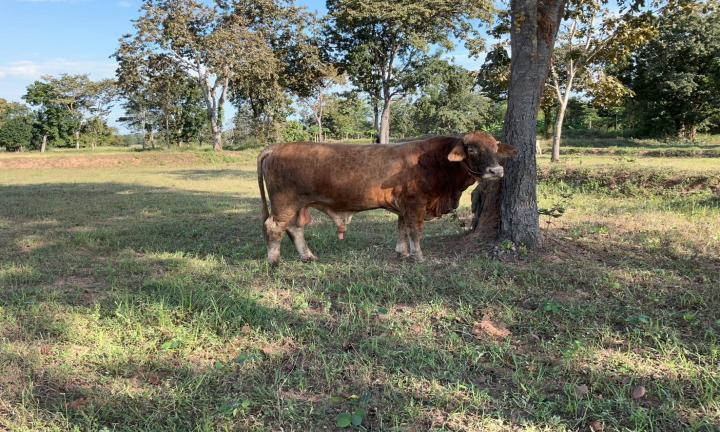Charolais: (257, 131, 519, 266)
